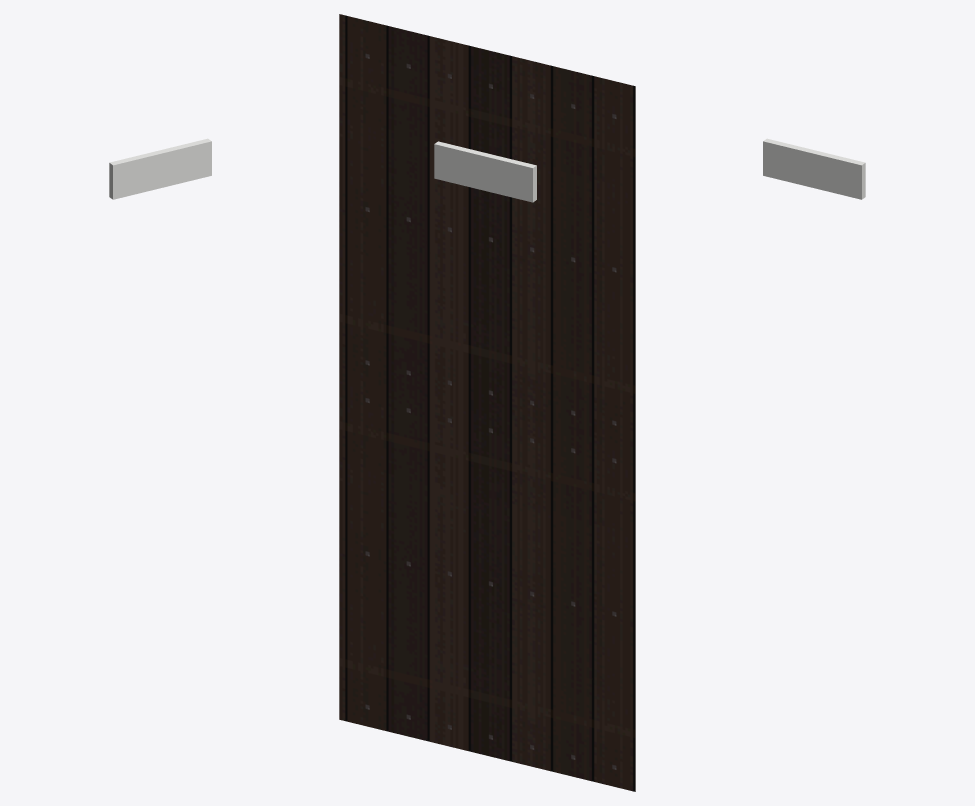
File: porta_secretaria.glb
3 views of the same model, side by side, from view 1: azimuth 30°, elevation 25°; view 2: azimuth 150°, elevation 25°; view 3: azimuth 330°, elevation 25° (orthographic).
Parts seen in each view (by area): view 1: Malha_0; view 2: Malha_0; view 3: Malha_0.
Boxes of the visible parts, bbox=[...] form: Malha_0: bbox=[109, 138, 211, 199]; Malha_0: bbox=[339, 14, 635, 791]; Malha_0: bbox=[763, 138, 865, 199].
Bounding box in the file's own units: 0.9 × 2.05 × 0.02.
Materials: 2 (1 with a texture image).
